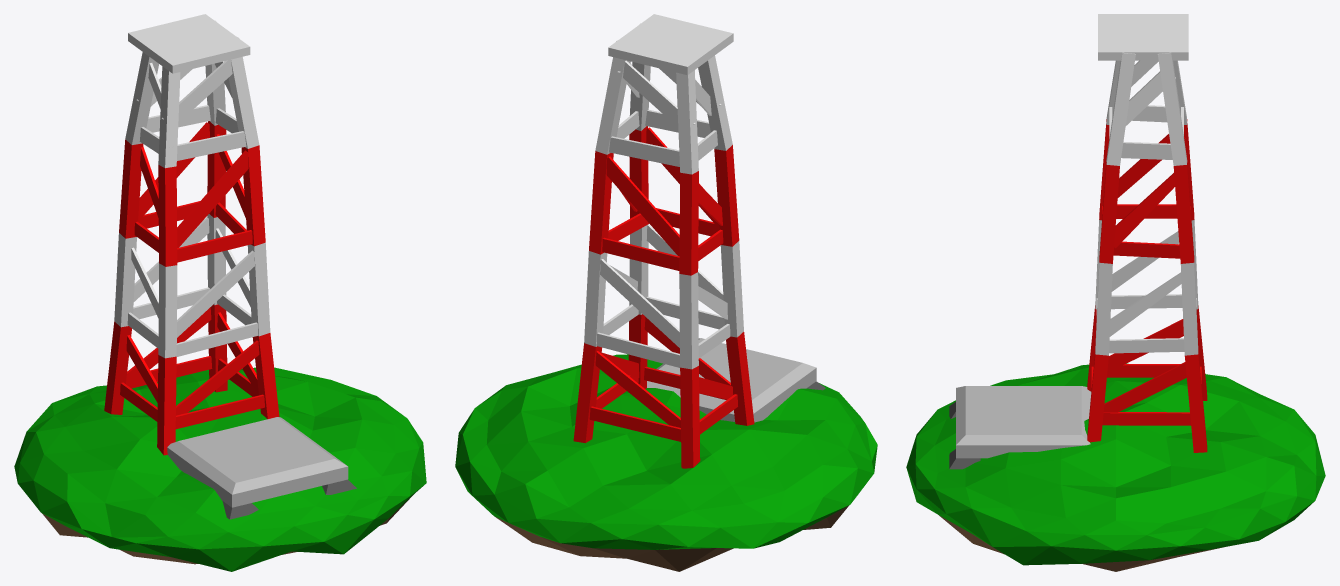
Rendered from launching_station2.fbx.
3 views of the same model, side by side, from view 1: azimuth 30°, elevation 25°; view 2: azimuth 150°, elevation 25°; view 3: azimuth 270°, elevation 25° (orthographic). The views are drawn at different scales.
Parts seen in each view (by area): view 1: Cube.007; view 2: Cube.007; view 3: Cube.007.
Boxes of the visible parts, x1,y1,x2,y2 form: Cube.007: (14, 14, 426, 571); Cube.007: (455, 14, 877, 571); Cube.007: (906, 14, 1325, 571).
Size of the model in its own units: 618 by 773 by 618.
